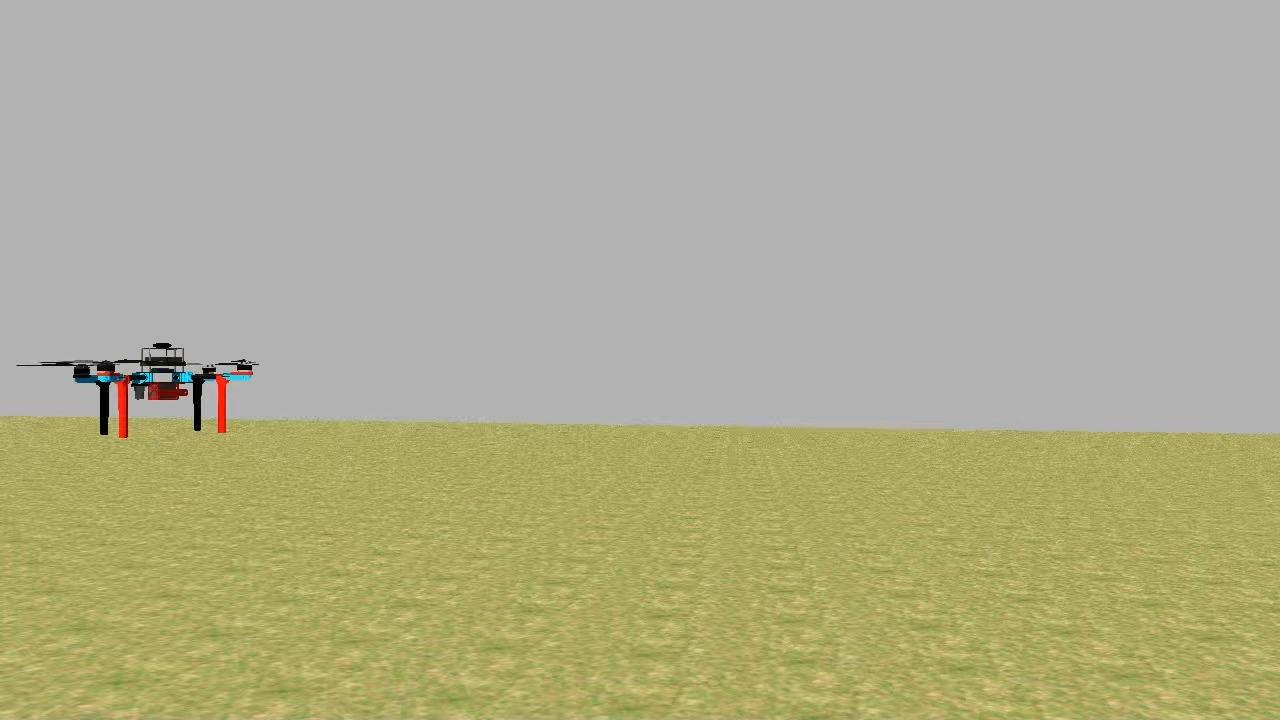UAV: (72, 332, 262, 448)
